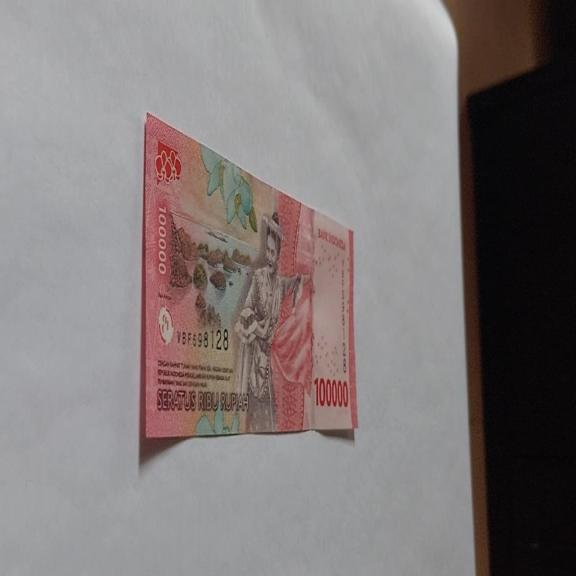Kertas: (140, 110, 359, 444), (176, 326, 230, 352)
